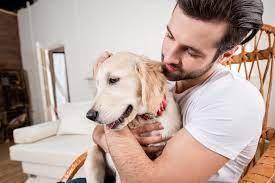Dog: (77, 41, 174, 181)
Person: (145, 4, 264, 177)
